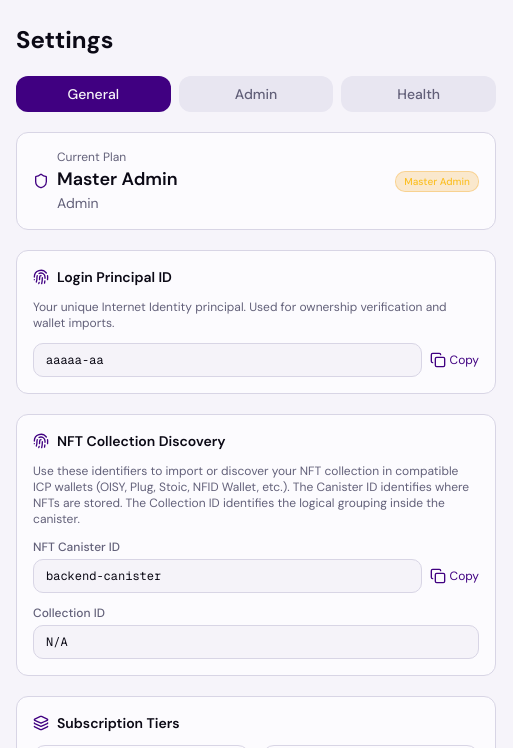
Test: Settings admin ownership reassignment (cover) › renders per-id success and failure results after a batch reassignment
Click the button "Admin" at (256, 94), box [179,76,333,112]
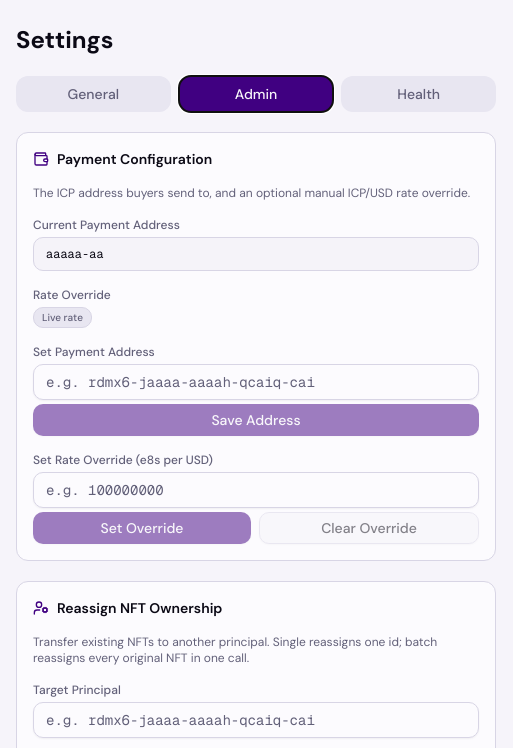
Type "2vxsx-fae" into the field with placeholder "e.g. rdmx6-jaaaa-aaaah-qcaiq-cai" below "Target Principal" at (256, 720), box [33,702,479,738]
(page scrolled)
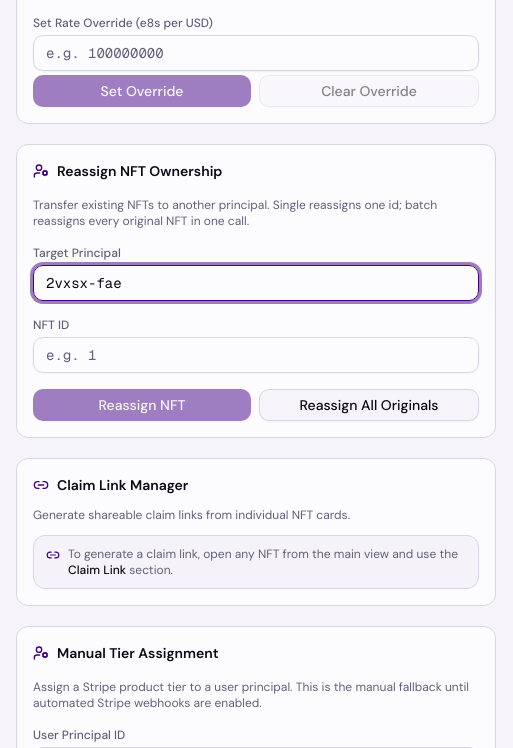
Click the button "Reassign All Originals" at (369, 405), box [259,389,479,421]
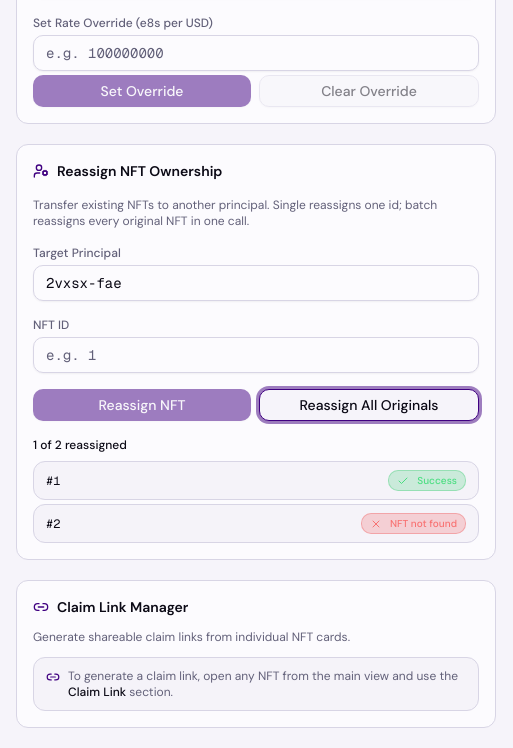
Check: the element showing "1 of 2 reassigned #1 Success #2 NFT not found" is shown, box [33,437,479,543]
Check: the text "1 of 2 reassigned" is shown, box [33,437,127,453]
Check: the element showing "#1 Success" is shown, box [33,461,479,500]
